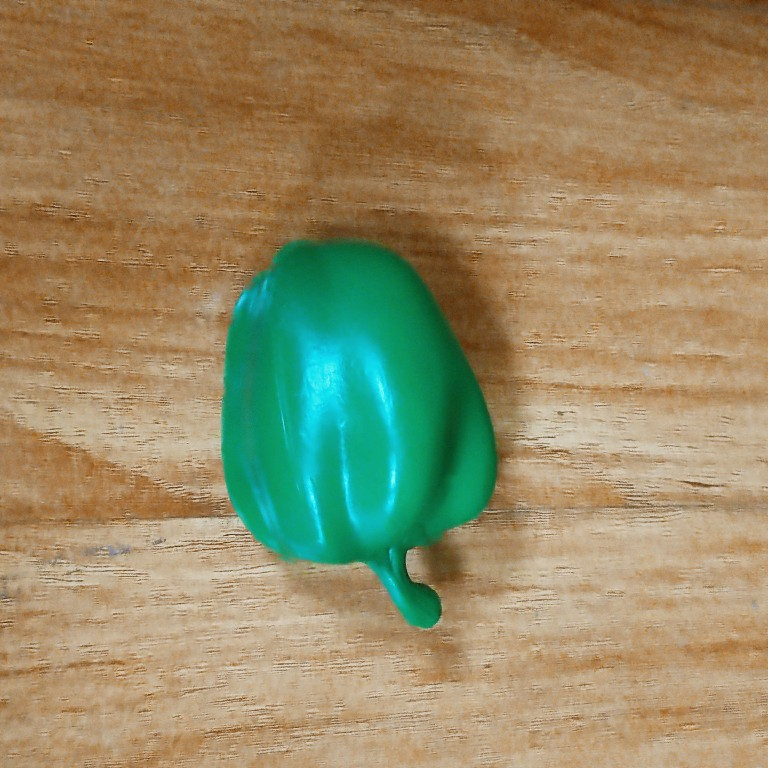fruit_pepper: (211, 231, 503, 639)
